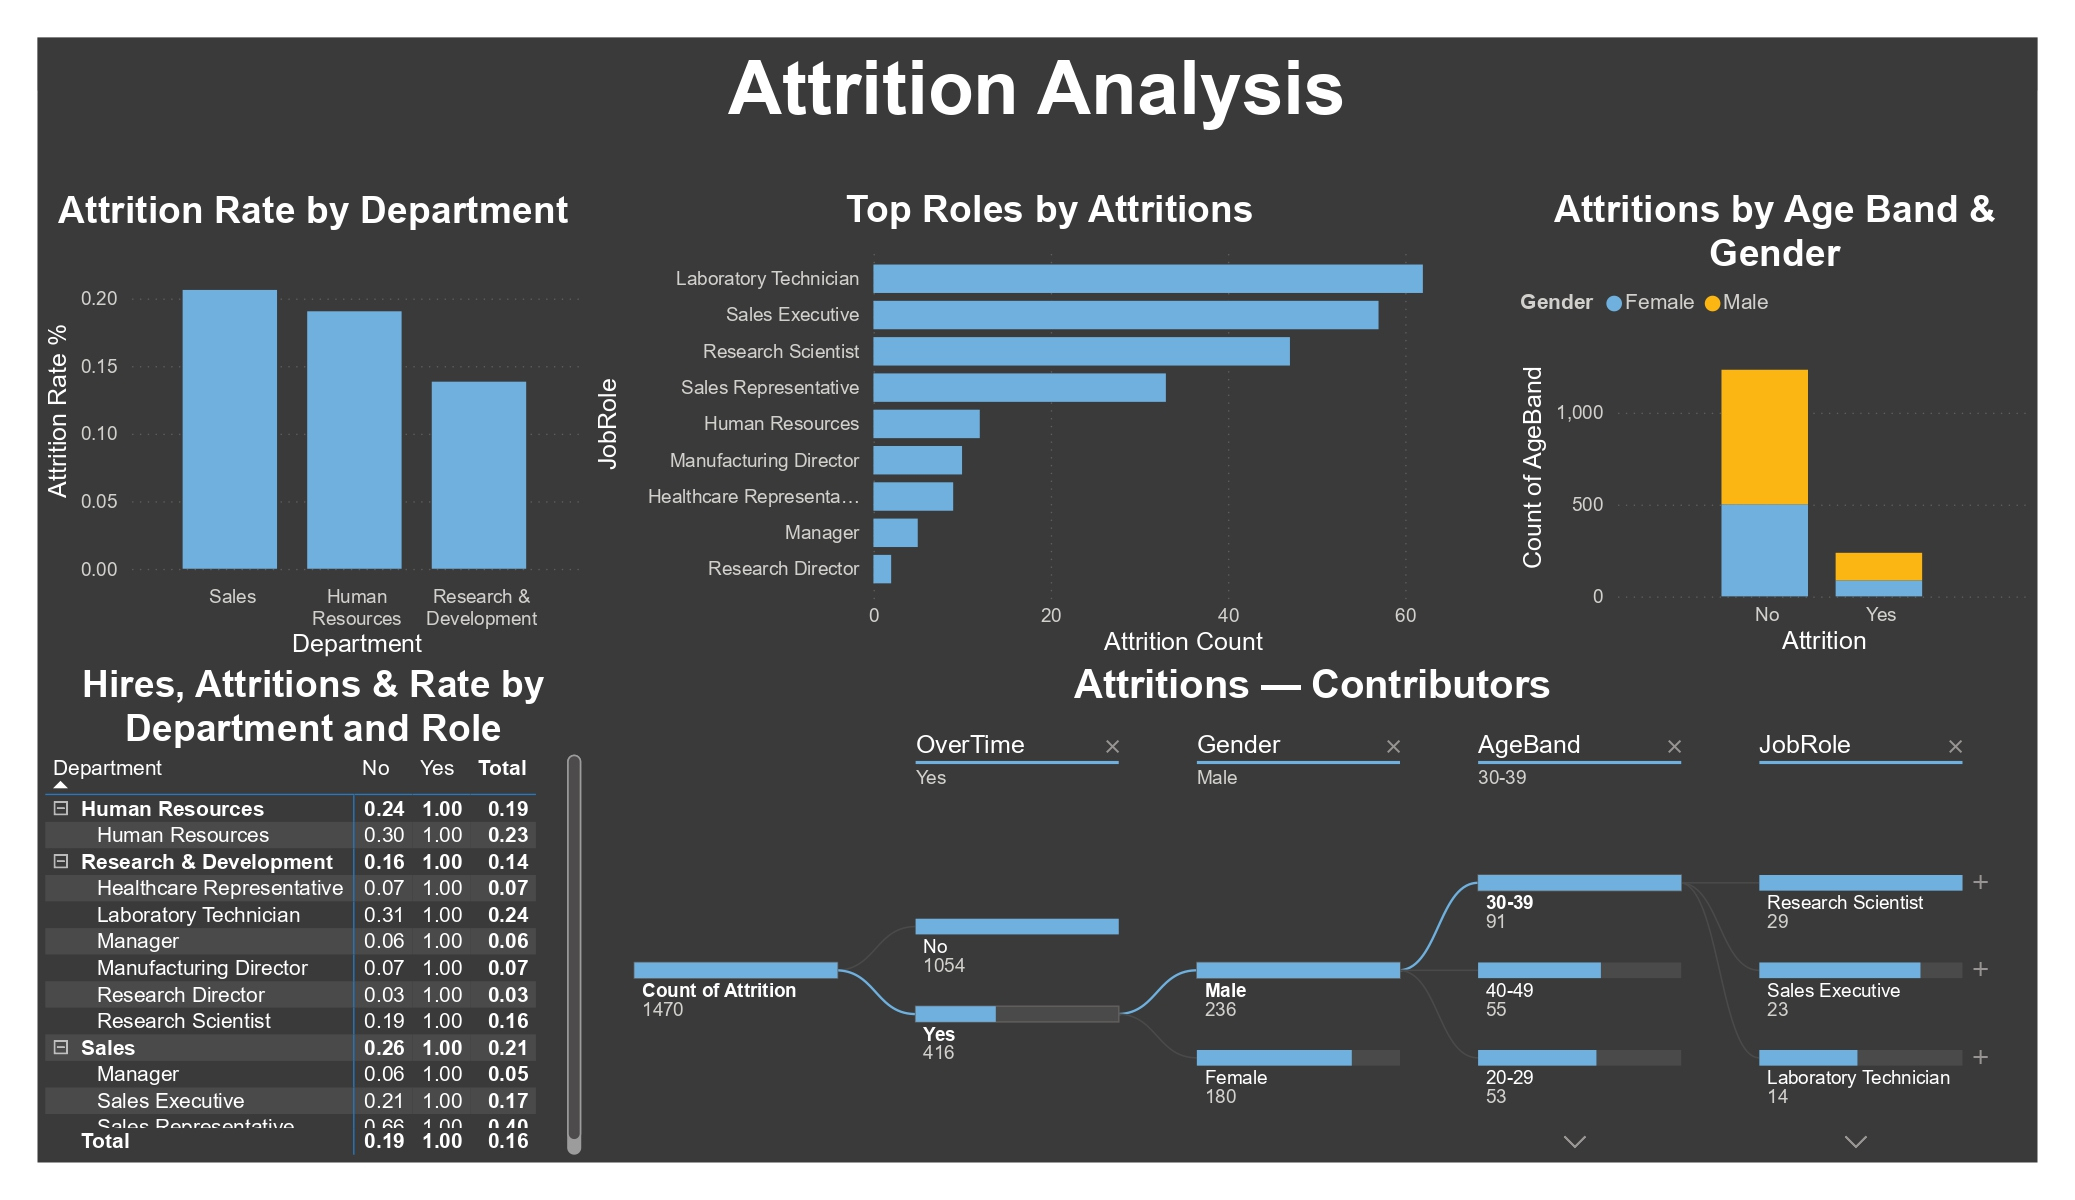

What the dashboard file says about the page in this screenshot:
{"tool":"powerbi","page":{"name":"Page 2","canvas":[1280,720],"ordinal":1},"visuals":[{"type":"columnChart","title":"Attrition Rate by Department","fields":{"Category":["HR Employee Attrition.Department"],"Y":["New_Measure.Attrition Rate %"]},"box":[0,96.6,352.7,304.4],"z":0},{"type":"barChart","title":"Top Roles by Attritions","fields":{"Y":["New_Measure.Attrition Count"],"Category":["HR Employee Attrition.JobRole"]},"box":[352,96,592,304],"z":1000},{"type":"columnChart","title":"Attritions by Age Band & Gender","fields":{"Y":["CountNonNull(HR Employee Attrition.AgeBand)"],"Category":["HR Employee Attrition.Attrition"],"Series":["HR Employee Attrition.Gender"]},"box":[944,96,336,304],"z":2000},{"type":"pivotTable","title":"Hires, Attritions & Rate by Department and Role","fields":{"Rows":["HR Employee Attrition.Department","HR Employee Attrition.JobRole"],"Columns":["HR Employee Attrition.Attrition"],"Values":["New_Measure.Attrition Rate %"]},"box":[0,399.5,352.7,320.5],"z":3000},{"type":"decompositionTreeVisual","title":"Attritions — Contributors","fields":{"Analyze":["CountNonNull(HR Employee Attrition.Attrition)"],"ExplainBy":["HR Employee Attrition.OverTime","HR Employee Attrition.Gender","HR Employee Attrition.AgeBand","HR Employee Attrition.JobRole","HR Employee Attrition.Department"]},"box":[352,400,928,320],"z":4000},{"type":"textbox","box":[393.7,0,491.7,96.6],"z":4001}]}

Visuals, with their boxes on the page's 1280x720 design canvas (x1, y1, x2, y2). These are canvas units, not pixel positions in the 2075x1200 screenshot, which may show the page scaled, cropped or inside an application window:
"Attrition Rate by Department" columnChart: 0,97,353,401
"Top Roles by Attritions" barChart: 352,96,944,400
"Attritions by Age Band & Gender" columnChart: 944,96,1280,400
"Hires, Attritions & Rate by Department and Role" pivotTable: 0,400,353,720
"Attritions — Contributors" decompositionTreeVisual: 352,400,1280,720
textbox: 394,0,885,97
